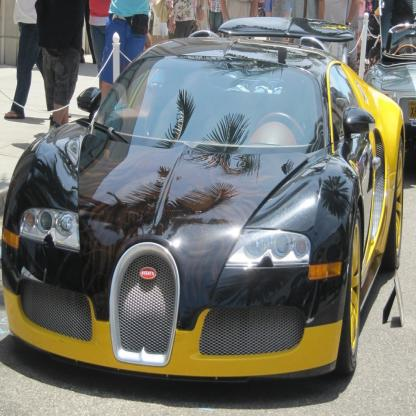Car: (2, 18, 406, 384), (364, 26, 416, 139)
